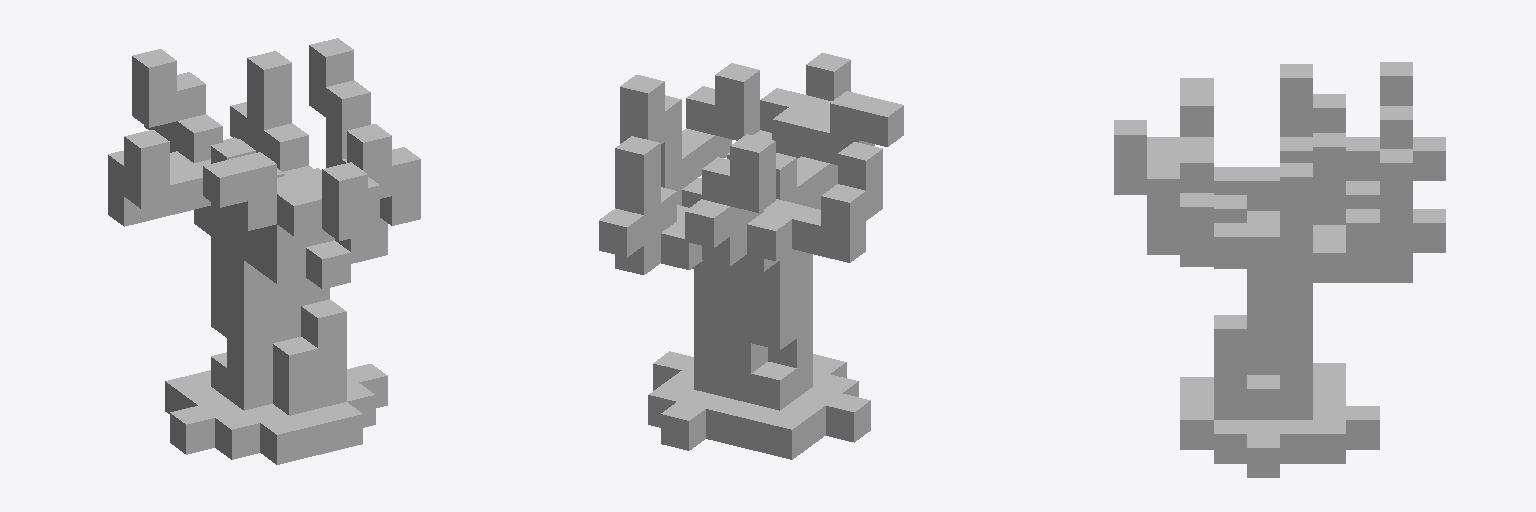
File: DeadTree.obj
3 views of the same model, side by side, from view 1: azimuth 30°, elevation 25°; view 2: azimuth 150°, elevation 25°; view 3: azimuth 270°, elevation 25° (orthographic).
Bounding box in the file's own units: 8 × 11 × 10.